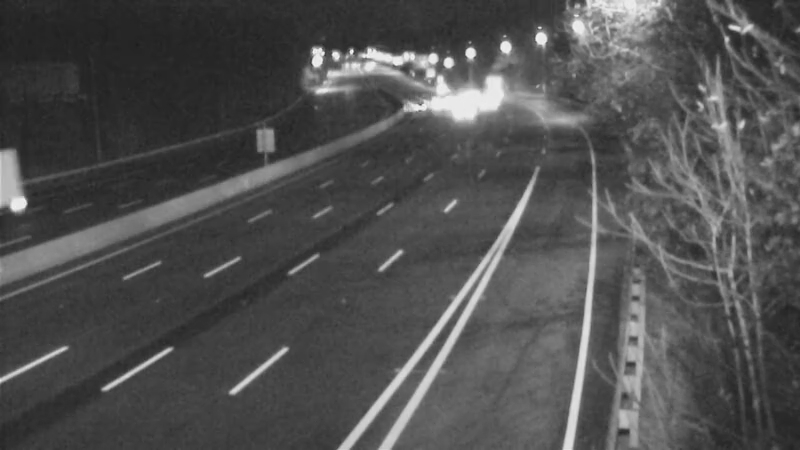vehicle: (472, 60, 522, 110), (414, 65, 464, 115), (456, 79, 506, 129), (434, 80, 484, 130), (395, 80, 445, 130)
